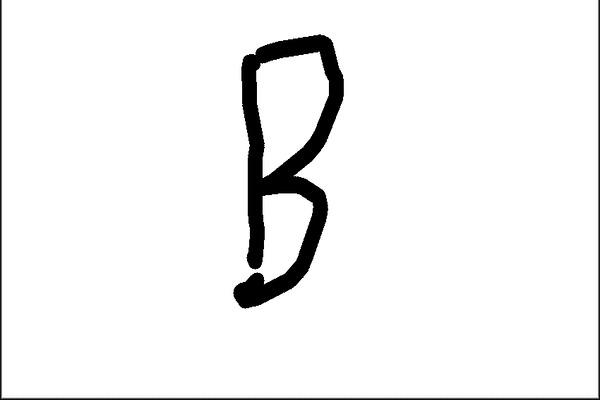B: (220, 24, 352, 319)
